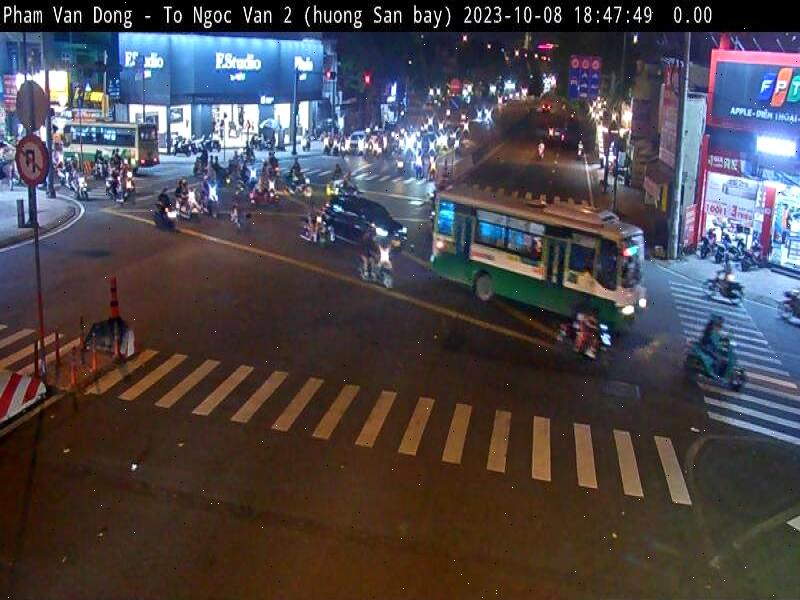bus: (432, 183, 646, 328)
car: (318, 192, 411, 260)
